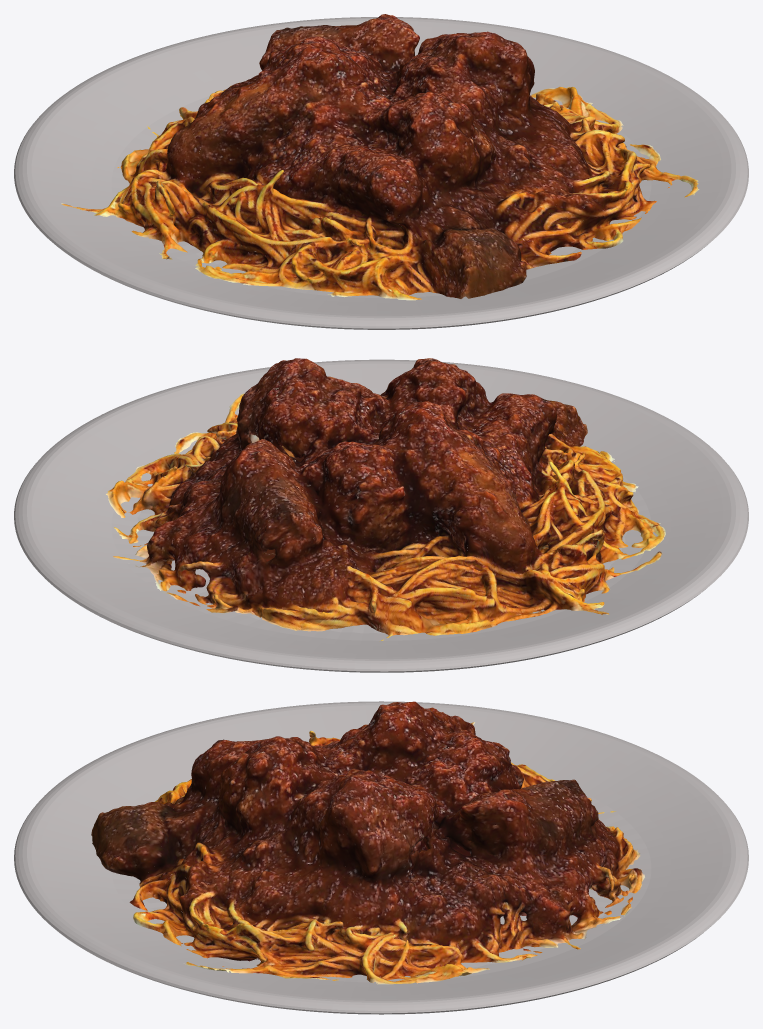
Rendered from spaghetti.glb.
3 renders of one model, top to bottom at view 1: azimuth 30°, elevation 25°; view 2: azimuth 150°, elevation 25°; view 3: azimuth 270°, elevation 25°, orthographic.
Parts seen in each view (by area): view 1: 3DModel_2, Circle_3; view 2: 3DModel_2, Circle_3; view 3: 3DModel_2, Circle_3.
Part boxes in pixels (box(x1,y1,x2,y2)): 3DModel_2: box(61, 14, 699, 300); Circle_3: box(14, 17, 748, 329); 3DModel_2: box(106, 358, 665, 640); Circle_3: box(14, 359, 748, 672); 3DModel_2: box(91, 701, 644, 984); Circle_3: box(14, 701, 748, 1014).
Bounding box in the file's own units: 9.75 × 2.4 × 9.75.
Materials: 2 (1 with a texture image).
